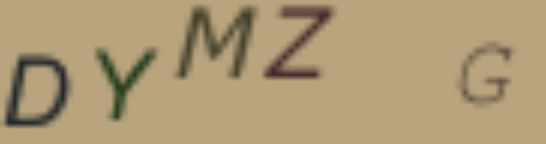D: (3, 50, 77, 129)
G: (452, 41, 521, 109)
M: (177, 5, 252, 82)
Y: (92, 45, 157, 122)
Z: (260, 4, 344, 86)
